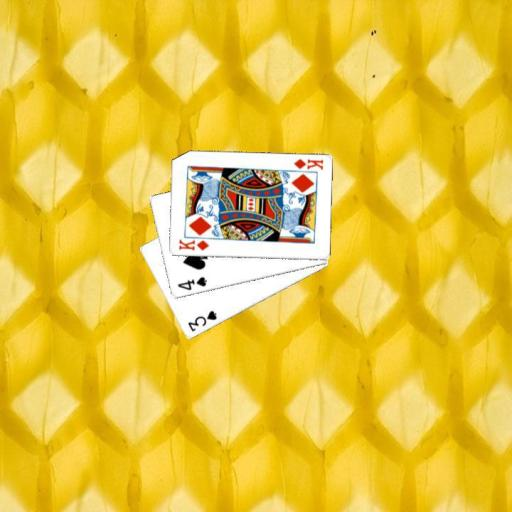3S: (185, 307, 218, 333)
4S: (175, 274, 209, 292)
KD: (176, 236, 211, 252), (290, 156, 324, 171)
